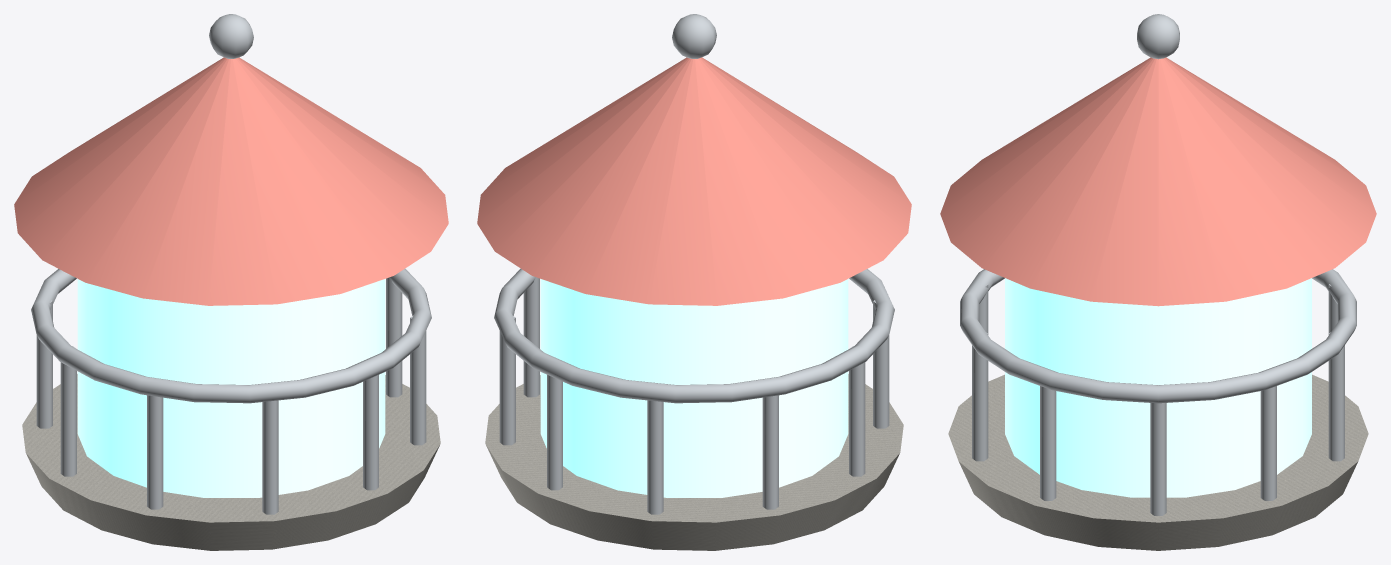
File: hero-shooter-harbour-payload-lighthouse-lantern-stage-fea64c17.glb
3 views of the same model, side by side, from view 1: azimuth 30°, elevation 25°; view 2: azimuth 150°, elevation 25°; view 3: azimuth 270°, elevation 25° (orthographic).
Parts seen in each view (by area): view 1: lighthouse-lantern-stage; view 2: lighthouse-lantern-stage; view 3: lighthouse-lantern-stage.
Boxes of the visible parts, x1=… form: lighthouse-lantern-stage: x1=14, y1=14, x2=448, y2=550; lighthouse-lantern-stage: x1=477, y1=14, x2=911, y2=550; lighthouse-lantern-stage: x1=940, y1=14, x2=1376, y2=550.
Size of the model in its own units: 2.7 by 3.09 by 2.7.
5 materials, 1 textured.
